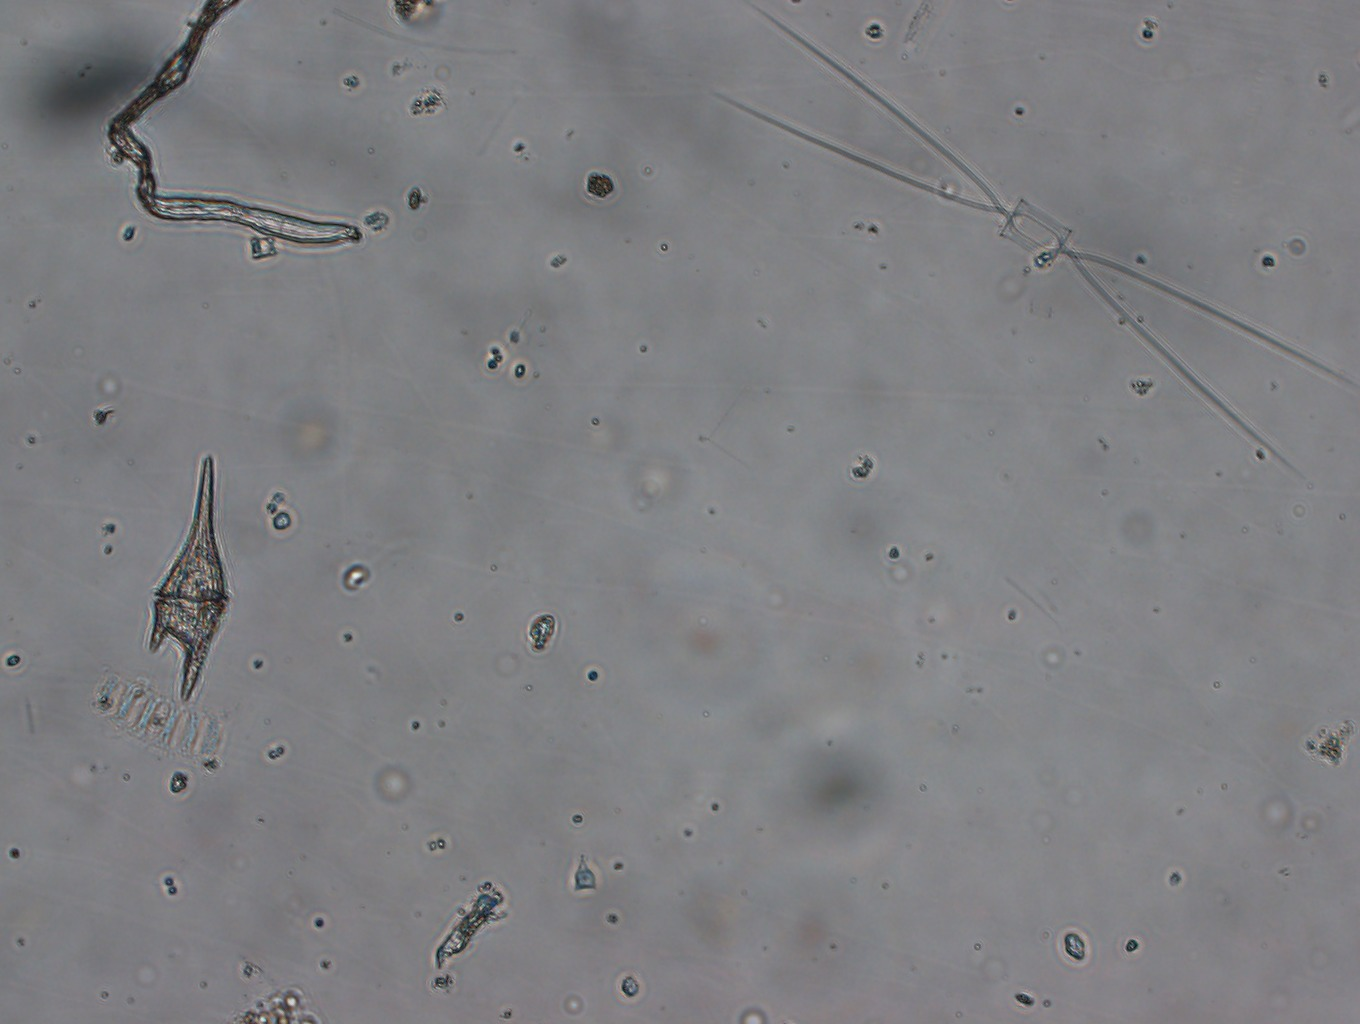ceratium furca: (143, 446, 232, 708)
chaetoceros: (692, 9, 1360, 479)
